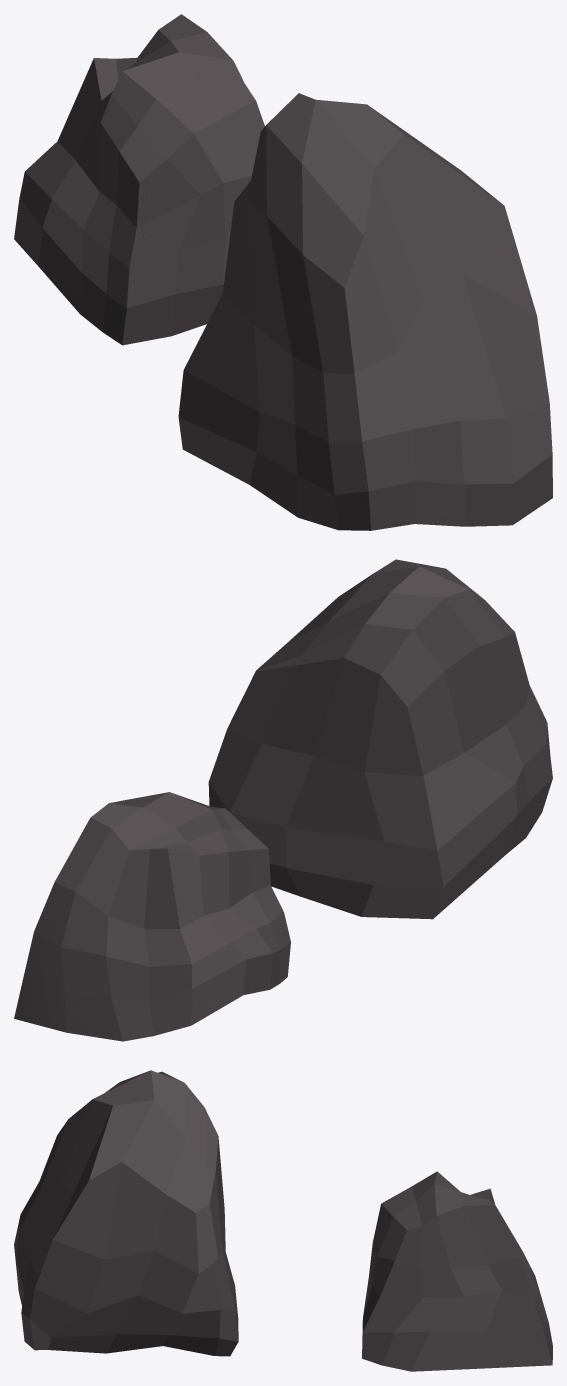
File: pedras.glb
3 renders of one model, top to bottom at view 1: azimuth 30°, elevation 25°; view 2: azimuth 150°, elevation 25°; view 3: azimuth 270°, elevation 25°, orthographic. The views are drawn at different scales.
Parts seen in each view (by area): view 1: pedra_2_1, pedra_1_0; view 2: pedra_2_1, pedra_1_0; view 3: pedra_2_1, pedra_1_0.
Part boxes in pixels (x1,y1,x2,y2): pedra_2_1: [178, 93, 552, 530]; pedra_1_0: [14, 14, 264, 345]; pedra_2_1: [208, 559, 552, 919]; pedra_1_0: [14, 792, 290, 1041]; pedra_2_1: [14, 1070, 238, 1356]; pedra_1_0: [362, 1171, 552, 1371].
Bounding box in the file's own units: 3.33 × 4.15 × 8.2.
1 material, 1 textured.
